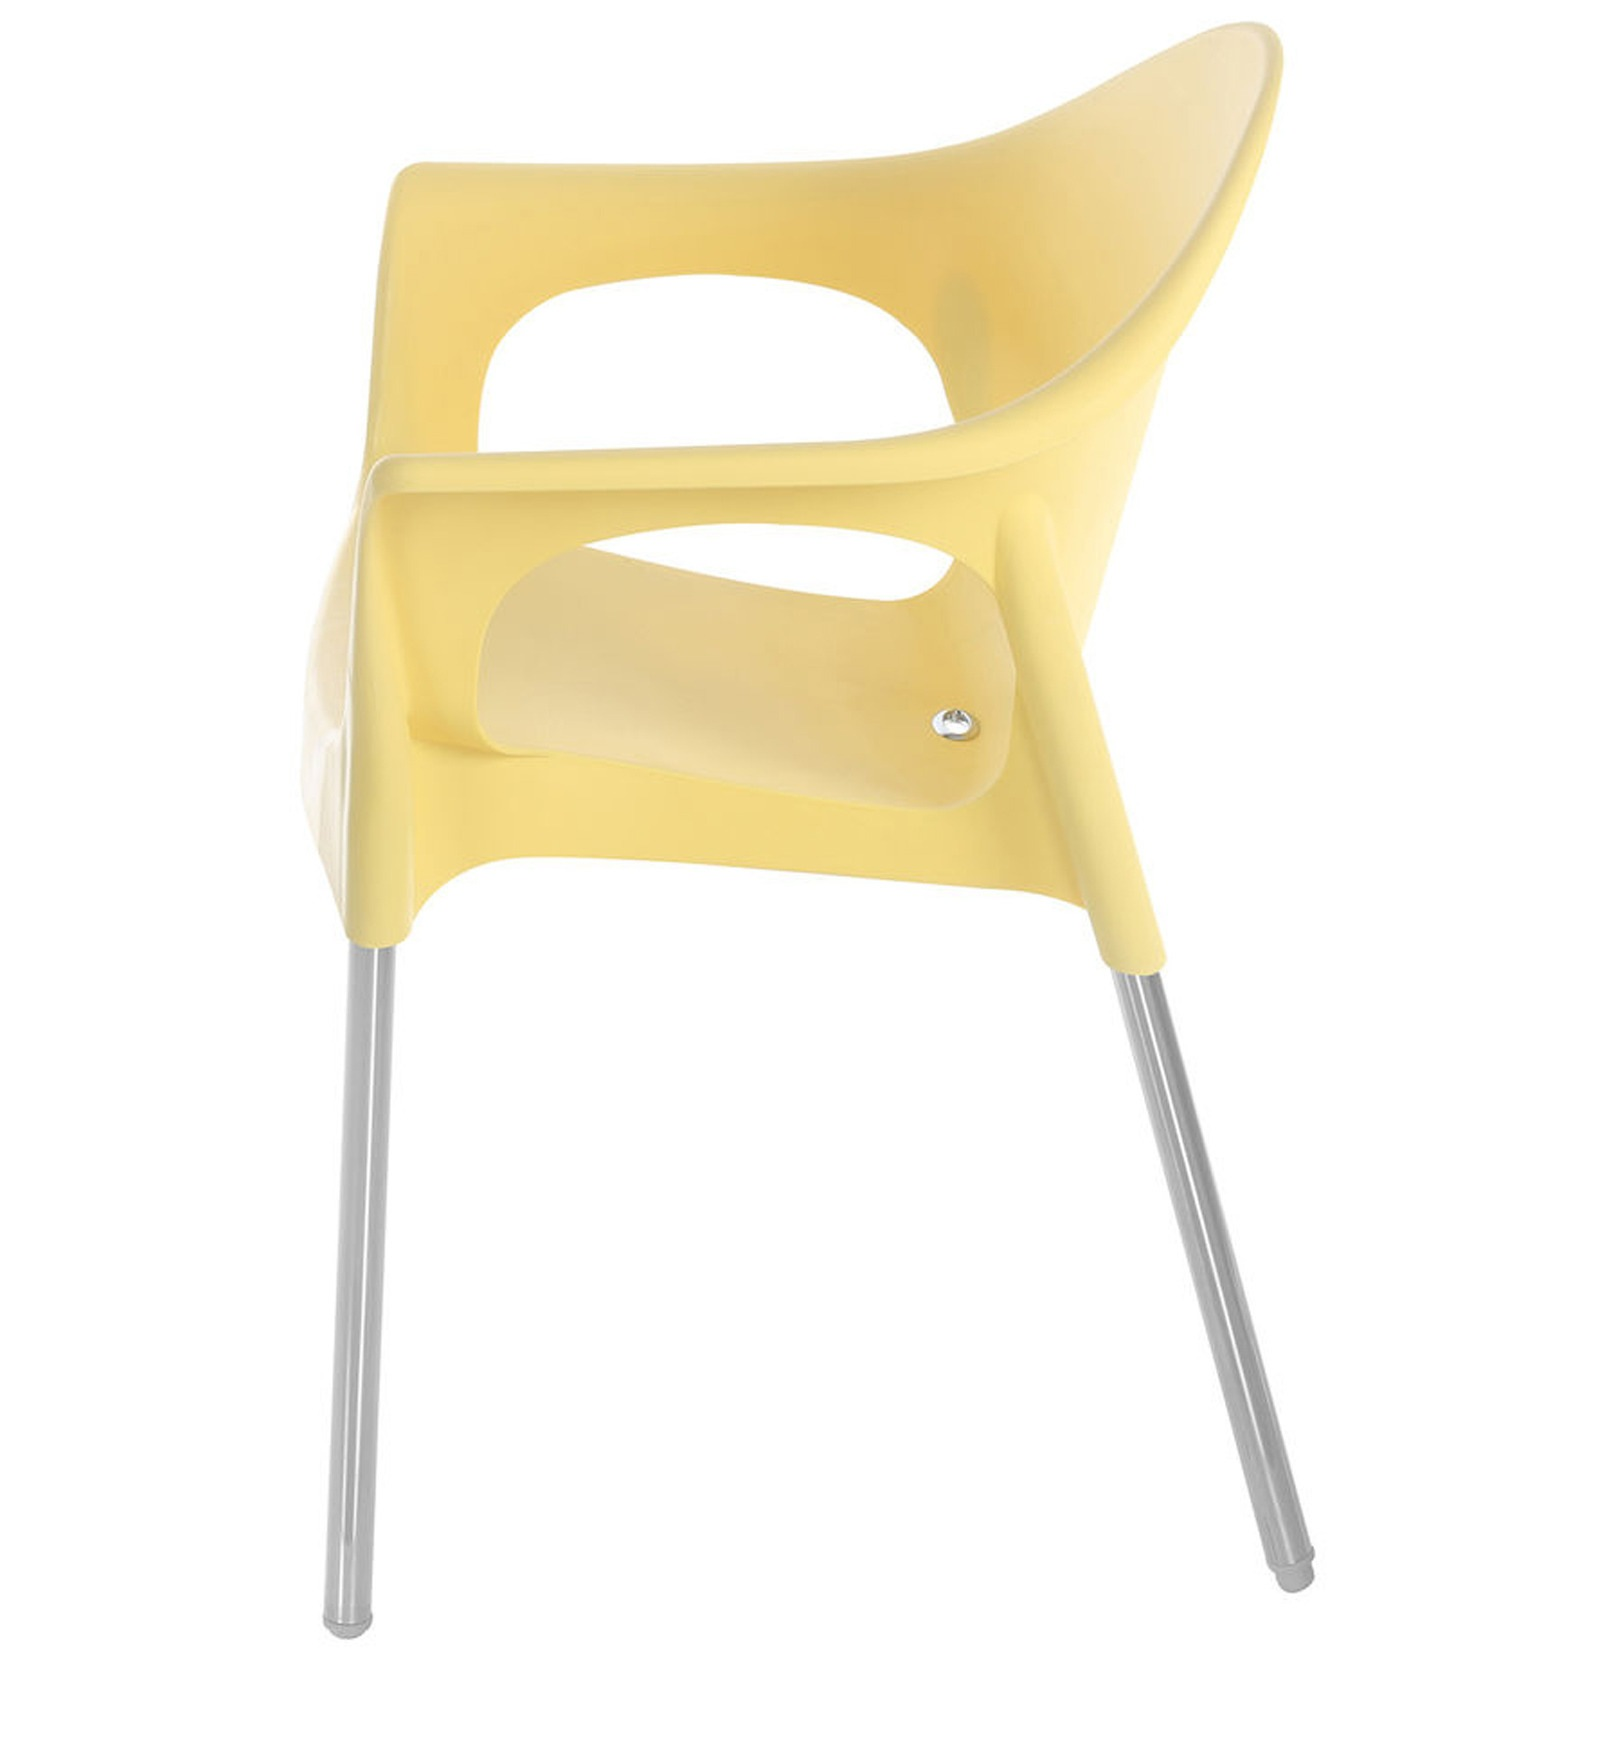Novella 09 Stainless Steel Chair in Yellow Colour by Nilkamal: (303, 5, 1326, 1637)
